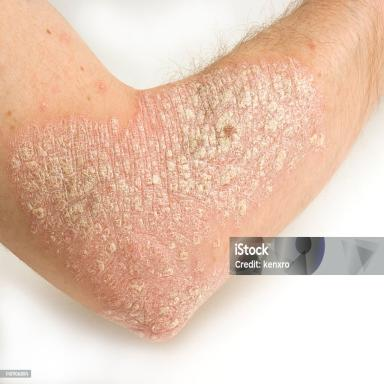Psoriasis: (6, 59, 325, 340)
